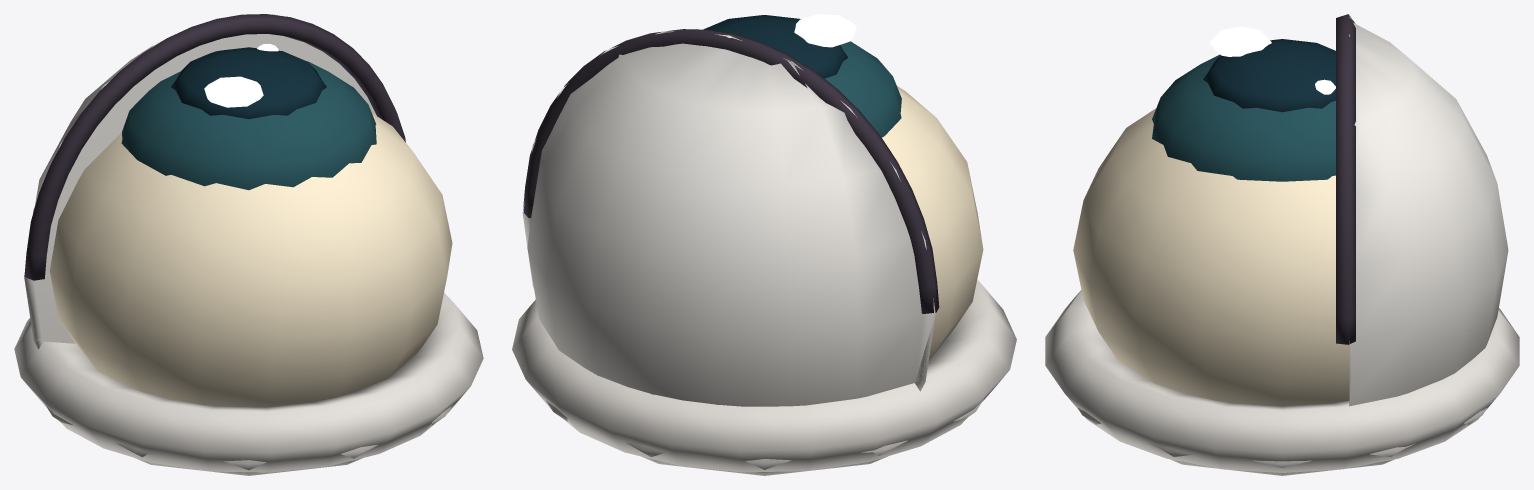
The model's file is part_eye_big.glb.
The picture shows the model from 3 angles, left to right: view 1: azimuth 30°, elevation 25°; view 2: azimuth 150°, elevation 25°; view 3: azimuth 270°, elevation 25°; orthographic projection. The views are drawn at different scales.
Parts seen in each view (by area): view 1: part_eye_big_painted_mesh; view 2: part_eye_big_painted_mesh; view 3: part_eye_big_painted_mesh.
Boxes of the visible parts, box(x1,y1,x2,y2) form: part_eye_big_painted_mesh: box(14, 14, 483, 475); part_eye_big_painted_mesh: box(512, 14, 1016, 475); part_eye_big_painted_mesh: box(1045, 14, 1519, 475).
Bounding box in the file's own units: 0.87 × 0.7662 × 0.8611.
